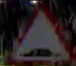Speed Breaker ahead: (4, 4, 75, 63)
